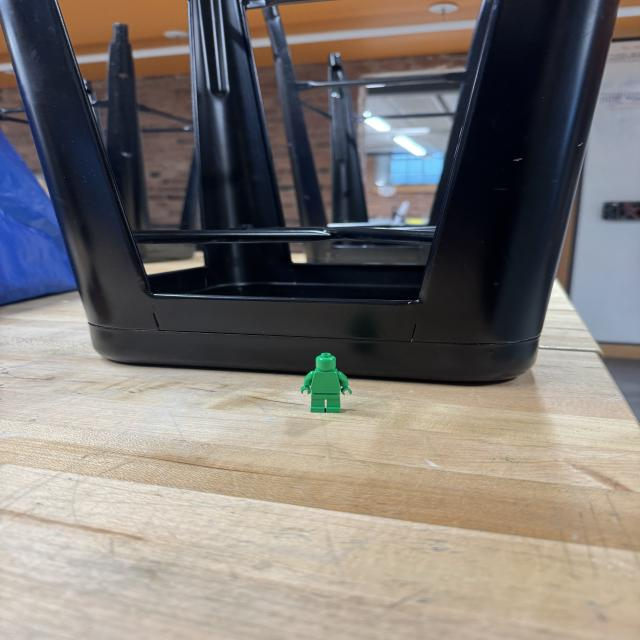Green Mini Figure: (301, 353, 352, 413)
